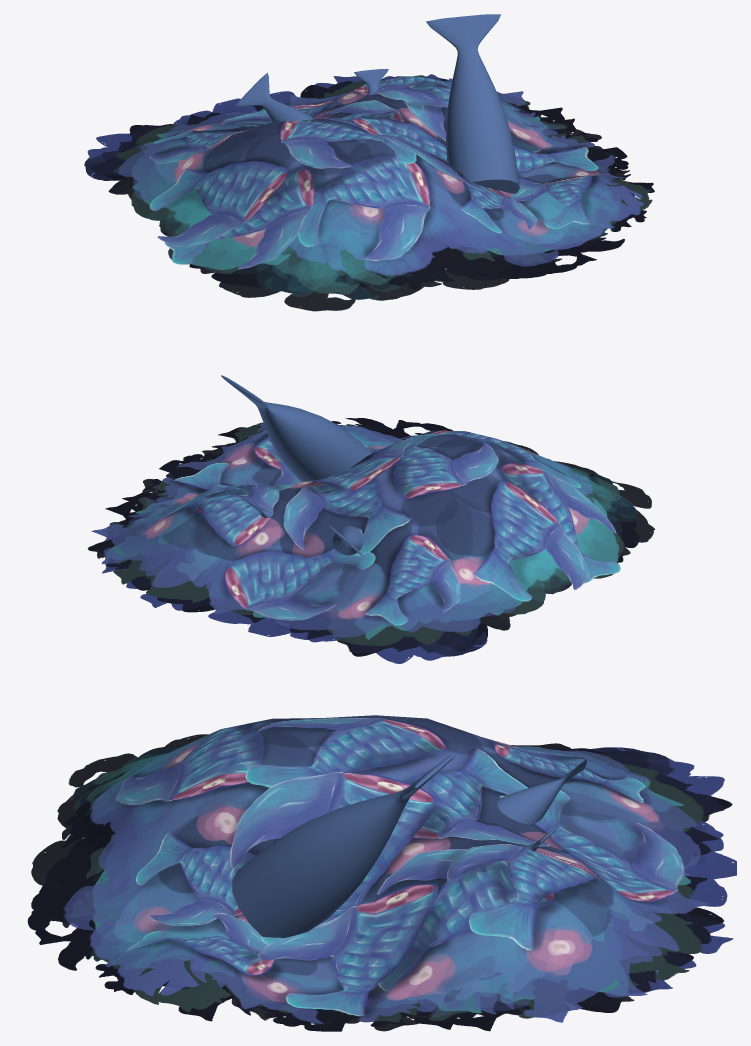
The model's file is FIshPile_v01.glb.
3 views of the same model, one above another, from view 1: azimuth 30°, elevation 25°; view 2: azimuth 150°, elevation 25°; view 3: azimuth 270°, elevation 25° (orthographic). The views are drawn at different scales.
Visible parts, largest first — view 1: Plane.001, Fish.001, Fish01.001; view 2: Plane.001, Fish.001, Fish01.001; view 3: Plane.001, Fish.001, Fish01.001.
Boxes of the visible parts, x1=… form: Plane.001: x1=84, y1=74, x2=654, y2=311; Fish.001: x1=426, y1=14, x2=519, y2=193; Fish01.001: x1=236, y1=72, x2=314, y2=121; Plane.001: x1=87, y1=418, x2=655, y2=663; Fish.001: x1=221, y1=375, x2=371, y2=482; Fish01.001: x1=329, y1=525, x2=363, y2=555; Plane.001: x1=27, y1=715, x2=736, y2=1031; Fish.001: x1=232, y1=753, x2=455, y2=937; Fish01.001: x1=497, y1=759, x2=586, y2=824.
Size of the model in its own units: 1.1 by 0.3296 by 1.1.
Materials: 2 (1 with a texture image).
